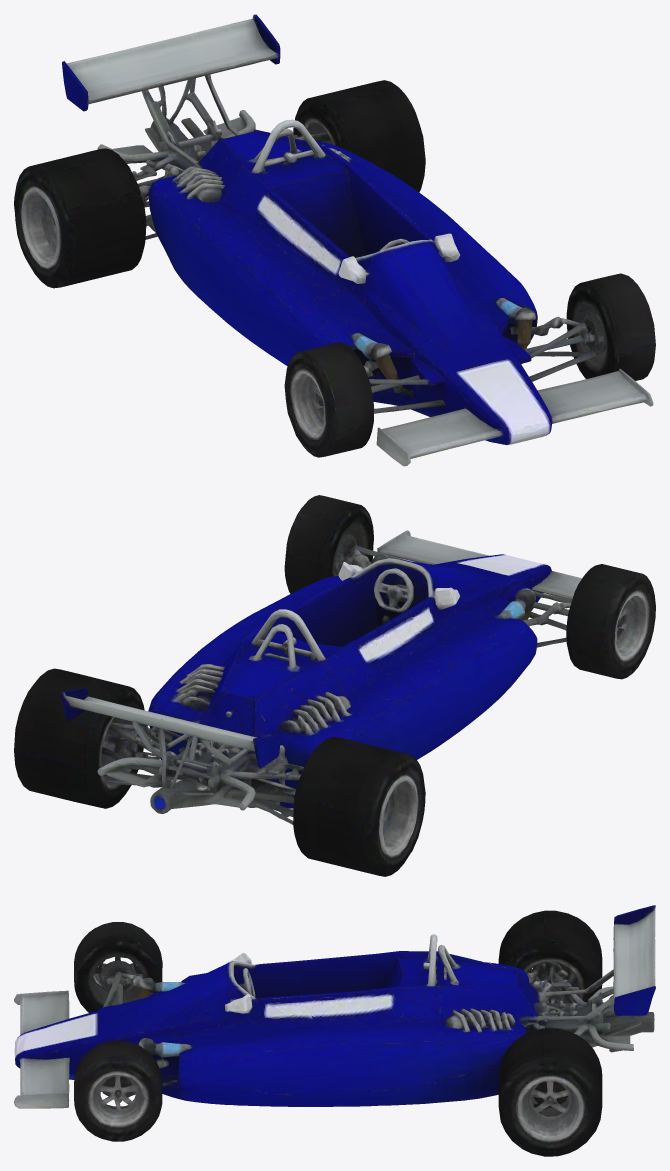
Rendered from formula-single-seater.glb.
3 renders of one model, top to bottom at view 1: azimuth 30°, elevation 25°; view 2: azimuth 150°, elevation 25°; view 3: azimuth 270°, elevation 25°, orthographic. The views are drawn at different scales.
Visible parts, largest first — view 1: geometry_0; view 2: geometry_0; view 3: geometry_0.
Boxes of the visible parts, x1,y1,x2,y2 form: geometry_0: (14,14,655,466); geometry_0: (14,495,655,876); geometry_0: (14,905,655,1156).
Size of the model in its own units: 0.5612 by 0.2532 by 1.
1 material, 1 textured.
